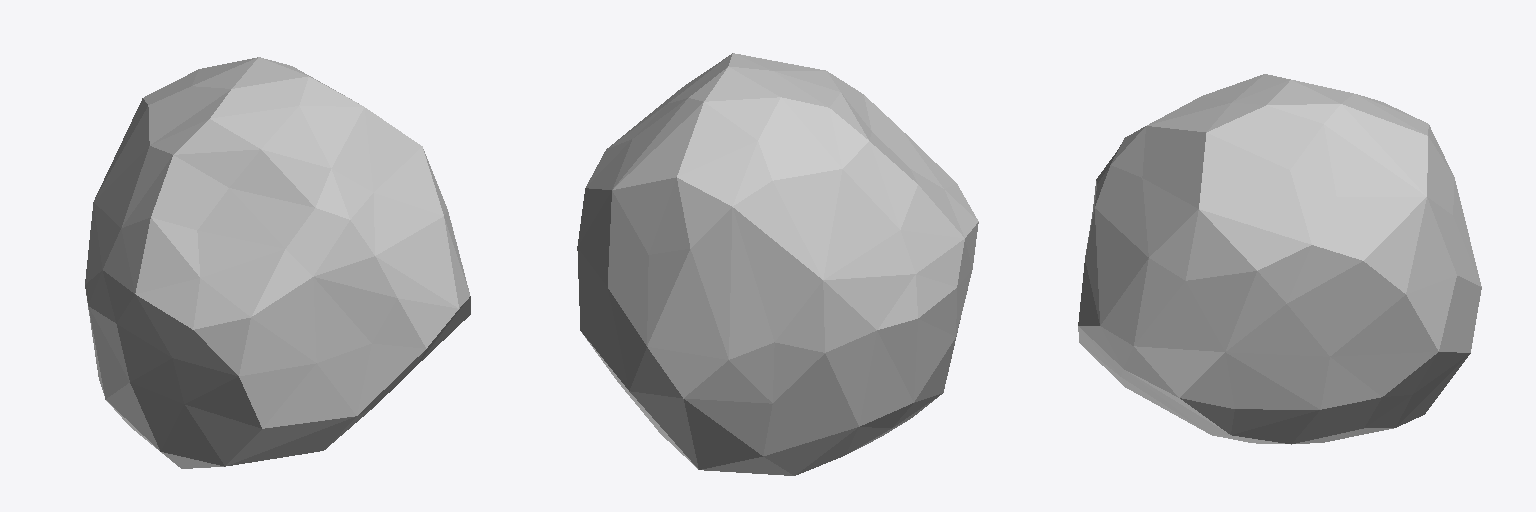
File: rock_0.obj
3 views of the same model, side by side, from view 1: azimuth 30°, elevation 25°; view 2: azimuth 150°, elevation 25°; view 3: azimuth 270°, elevation 25° (orthographic).
Bounding box in the file's own units: 1.41 × 1.42 × 1.5.